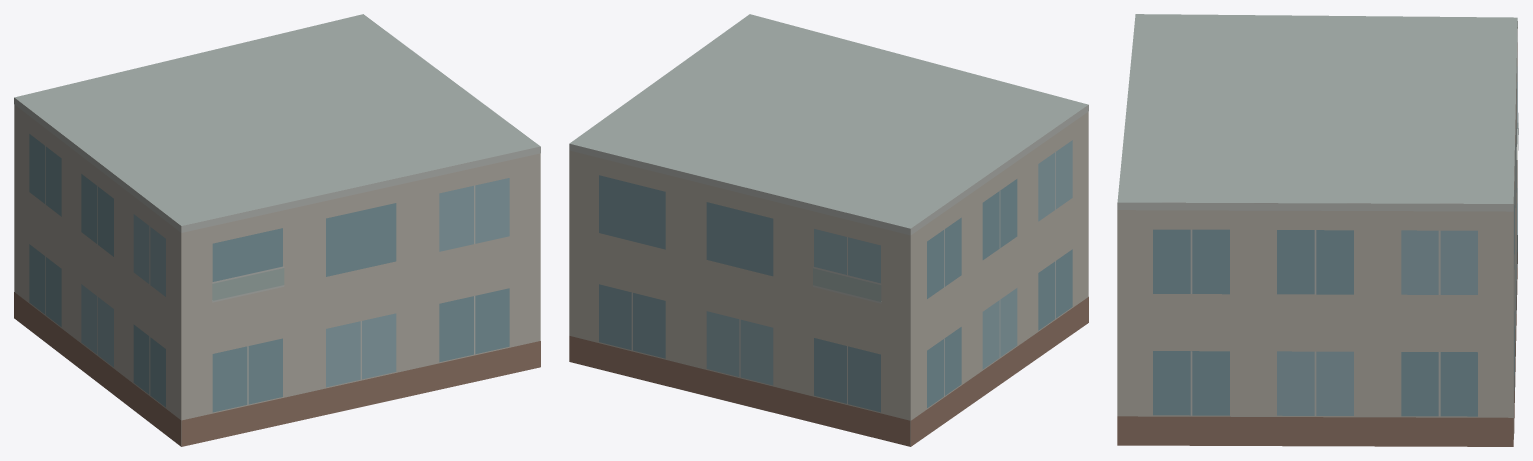
The model's file is survey-upis-32766102.glb.
3 views of the same model, side by side, from view 1: azimuth 30°, elevation 25°; view 2: azimuth 150°, elevation 25°; view 3: azimuth 270°, elevation 25° (orthographic). The views are drawn at different scales.
Parts seen in each view (by area): view 1: survey-upis-32766102.tmp; view 2: survey-upis-32766102.tmp; view 3: survey-upis-32766102.tmp.
Part boxes in pixels (x1,y1,x2,y2): survey-upis-32766102.tmp: (14, 14, 540, 446); survey-upis-32766102.tmp: (569, 14, 1088, 446); survey-upis-32766102.tmp: (1117, 14, 1518, 446).
Size of the model in its own units: 13.18 by 7.85 by 11.76.
